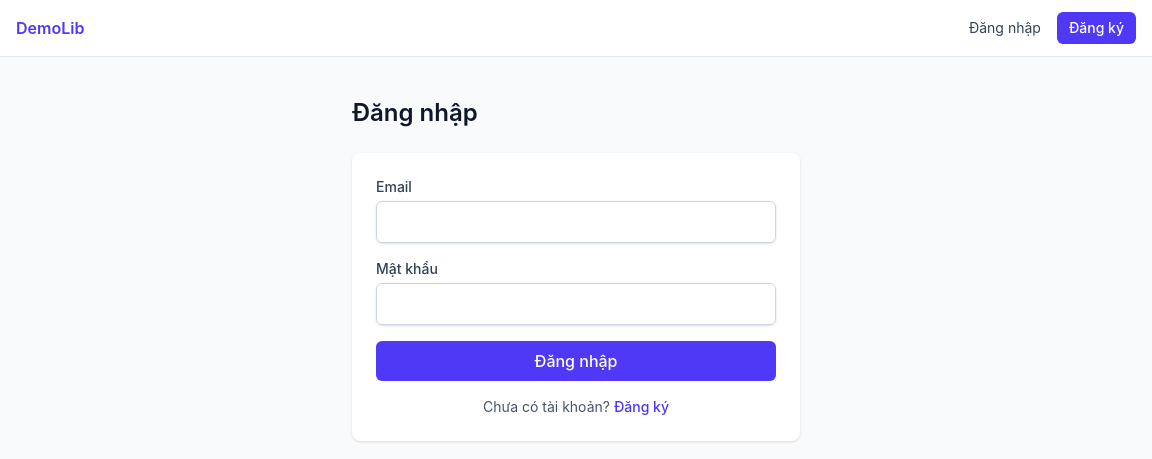
2.1.2 Đăng nhập — LoginPage › FU-02 BR-04: READER đăng nhập → /, lưu token
Step 1. Type " A@B.com " into the field labelled "Email" → (576, 222), box 376,201 -> 776,243
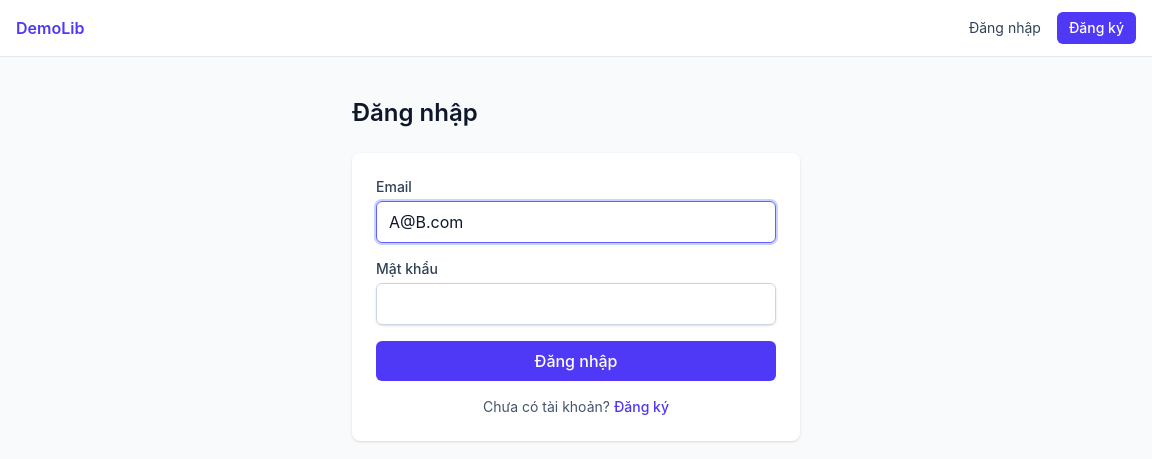
Step 2. Type "12345678" into the password field labelled "Mật khẩu" → (576, 304), box 376,283 -> 776,325
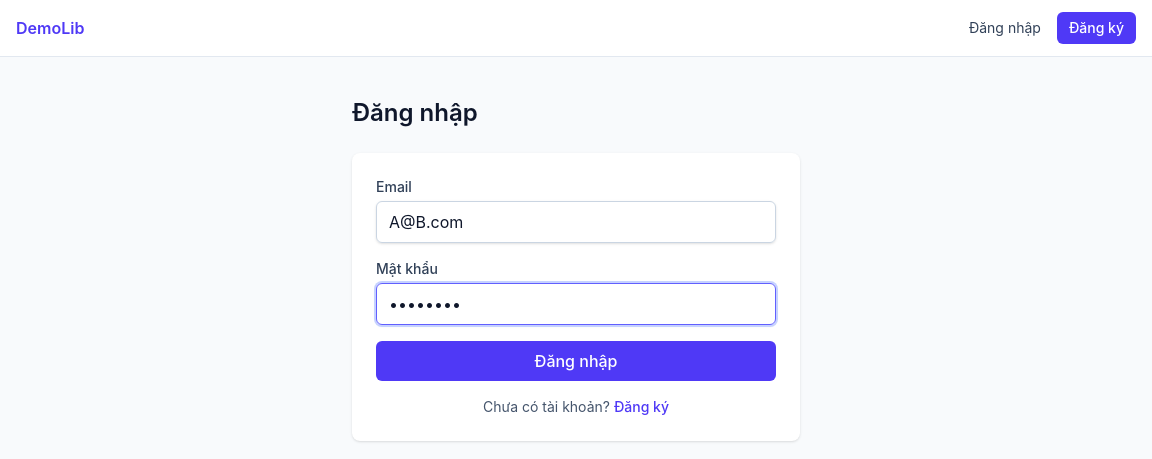
Step 3. Click the button "Đăng nhập" → (576, 361), box 376,341 -> 776,381
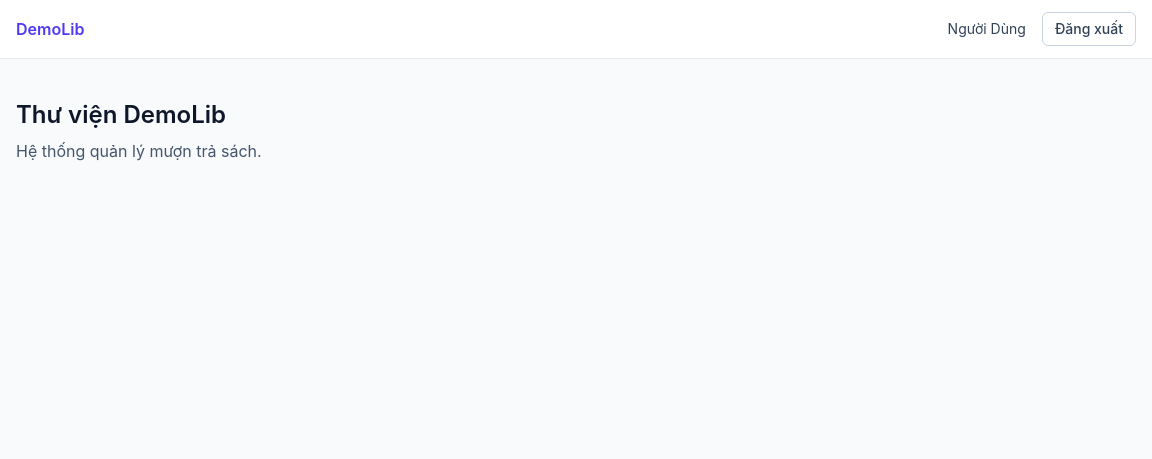
expect the heading "Thư viện DemoLib" is shown: met, box 16,100 -> 226,129
expect the text with test id "current-user" reads "Người Dùng": met, box 948,20 -> 1026,37
